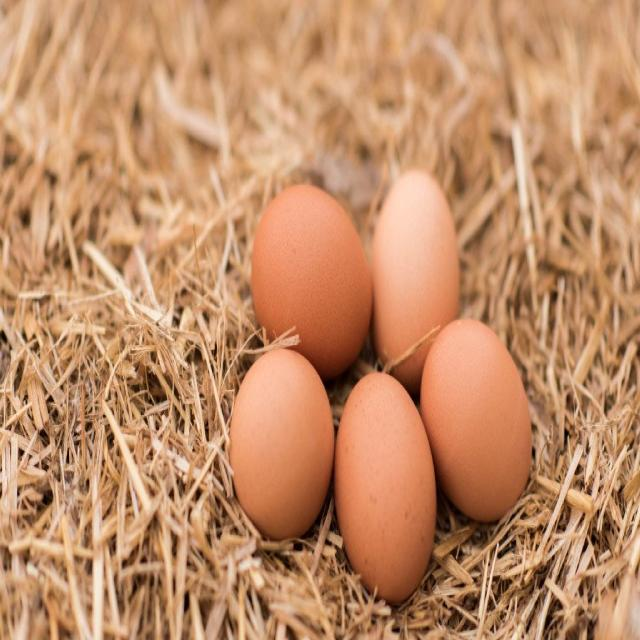egg: (371, 169, 532, 521), (334, 372, 437, 603), (251, 185, 371, 379), (229, 349, 334, 539)
